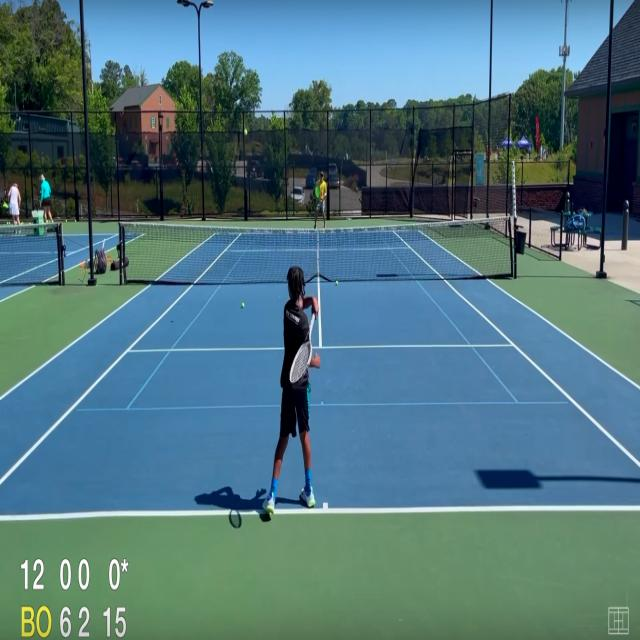ball: (243, 128, 248, 136), (241, 301, 245, 309), (335, 280, 339, 286), (66, 219, 68, 223), (74, 220, 76, 223)
